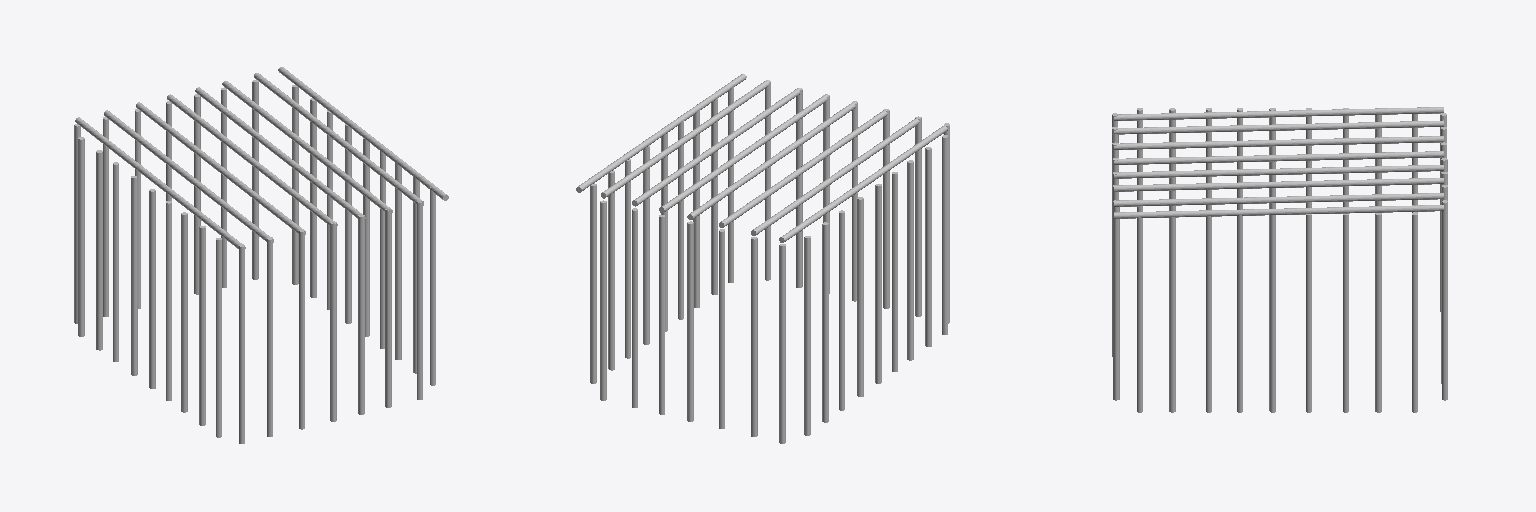
The model's file is grille.obj.
The picture shows the model from 3 angles: view 1: azimuth 30°, elevation 25°; view 2: azimuth 150°, elevation 25°; view 3: azimuth 270°, elevation 25°; orthographic projection.
Visible parts, largest first — view 1: Cylinder.007, Cylinder.002, Cylinder.001, Cylinder.004, Cylinder.003, Cylinder.008, Cylinder.023, Cylinder.022, Cylinder.020, Cylinder.039_Cylinder.041, Cylinder.032_Cylinder.034, Cylinder.033_Cylinder.035 (+27 smaller); view 2: Cylinder.002, Cylinder.028_Cylinder.030, Cylinder.007, Cylinder.031_Cylinder.033, Cylinder.026_Cylinder.028, Cylinder.001, Cylinder.004, Cylinder.003, Cylinder.008, Cylinder.018_Cylinder.027, Cylinder.009, Cylinder.010 (+27 smaller); view 3: Cylinder.032_Cylinder.034, Cylinder.034_Cylinder.036, Cylinder.033_Cylinder.035, Cylinder.038_Cylinder.040, Cylinder.036_Cylinder.038, Cylinder.035_Cylinder.037, Cylinder.039_Cylinder.041, Cylinder.037_Cylinder.039, Cylinder.010, Cylinder.013, Cylinder.016, Cylinder.019 (+7 smaller).
Boxes of the visible parts, box(x1,y1,x2,y2) form: Cylinder.007: box(96, 150, 102, 350); Cylinder.002: box(181, 212, 187, 412); Cylinder.001: box(199, 226, 205, 425); Cylinder.004: box(149, 189, 155, 388); Cylinder.003: box(131, 176, 137, 375); Cylinder.008: box(78, 137, 84, 336); Cylinder.023: box(358, 215, 364, 414); Cylinder.022: box(330, 222, 336, 421); Cylinder.020: box(385, 209, 391, 407); Cylinder.039_Cylinder.041: box(278, 67, 448, 200); Cylinder.032_Cylinder.034: box(254, 73, 423, 205); Cylinder.033_Cylinder.035: box(222, 81, 392, 212); Cylinder.002: box(907, 160, 913, 360); Cylinder.028_Cylinder.030: box(687, 221, 693, 421); Cylinder.007: box(822, 222, 828, 422); Cylinder.031_Cylinder.033: box(600, 200, 606, 400); Cylinder.026_Cylinder.028: box(751, 237, 757, 436); Cylinder.001: box(925, 147, 931, 346); Cylinder.004: box(875, 184, 881, 383); Cylinder.003: box(857, 197, 863, 396); Cylinder.008: box(804, 236, 810, 435); Cylinder.018_Cylinder.027: box(779, 244, 785, 443); Cylinder.009: box(590, 183, 596, 383); Cylinder.010: box(608, 170, 614, 370); Cylinder.032_Cylinder.034: box(1114, 193, 1443, 206); Cylinder.034_Cylinder.036: box(1114, 136, 1443, 149); Cylinder.033_Cylinder.035: box(1114, 178, 1443, 191); Cylinder.038_Cylinder.040: box(1114, 107, 1443, 120); Cylinder.036_Cylinder.038: box(1114, 165, 1443, 178); Cylinder.035_Cylinder.037: box(1114, 151, 1443, 164); Cylinder.039_Cylinder.041: box(1114, 205, 1443, 218); Cylinder.037_Cylinder.039: box(1114, 120, 1443, 134); Cylinder.010: box(1375, 213, 1381, 412); Cylinder.013: box(1269, 215, 1275, 412); Cylinder.016: box(1169, 217, 1175, 412); Cylinder.019: box(1113, 200, 1119, 400).
Bounding box in the file's own units: 2.33 × 2.09 × 3.08.